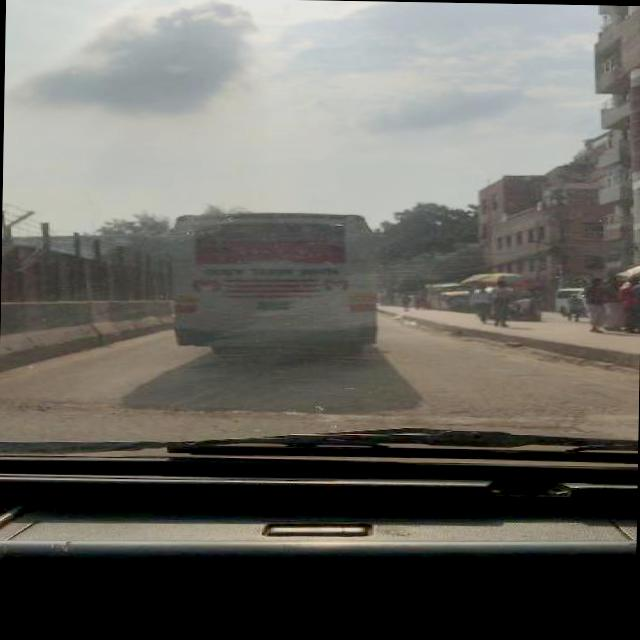bus: (170, 205, 388, 362)
